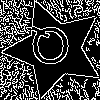Q: (29, 24, 72, 75)
